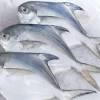Ikan Bawal: (1, 23, 100, 74), (13, 1, 100, 50)
